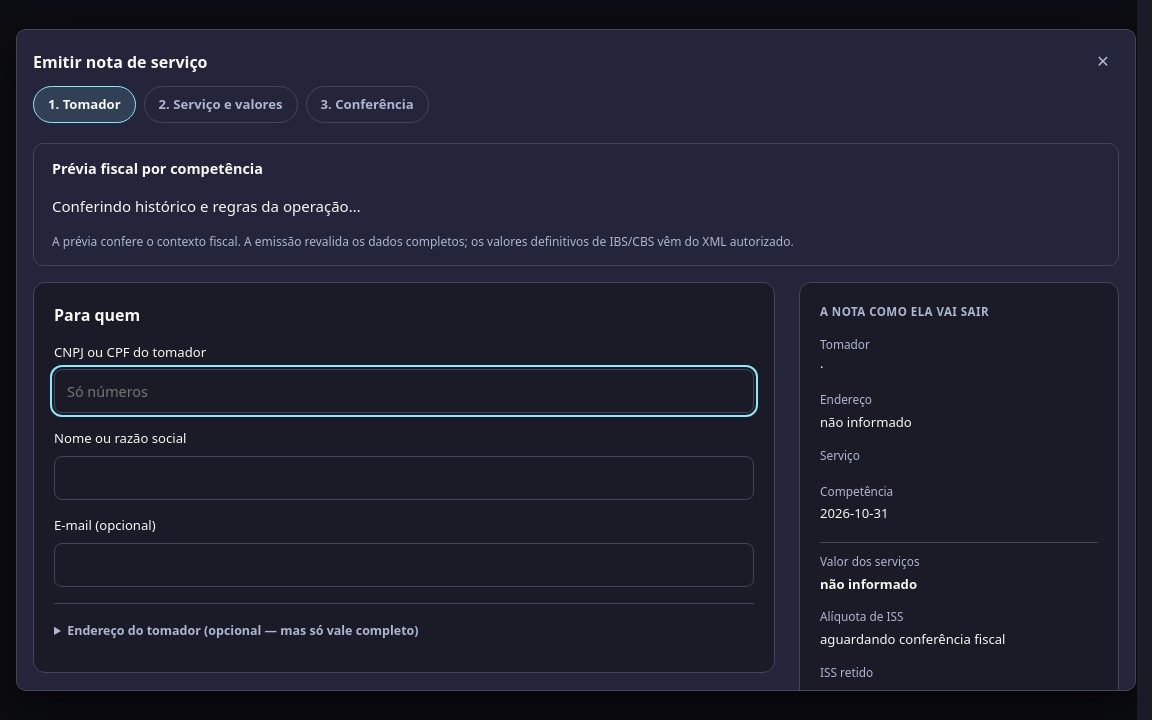
Test: ignora retorno de CEP que foi alterado e permite consultar o novo
Click the heading "Endereço do tomador (opcional — mas só vale completo)". click: (243,630)
box: [67, 622, 418, 639]
(page scrolled)
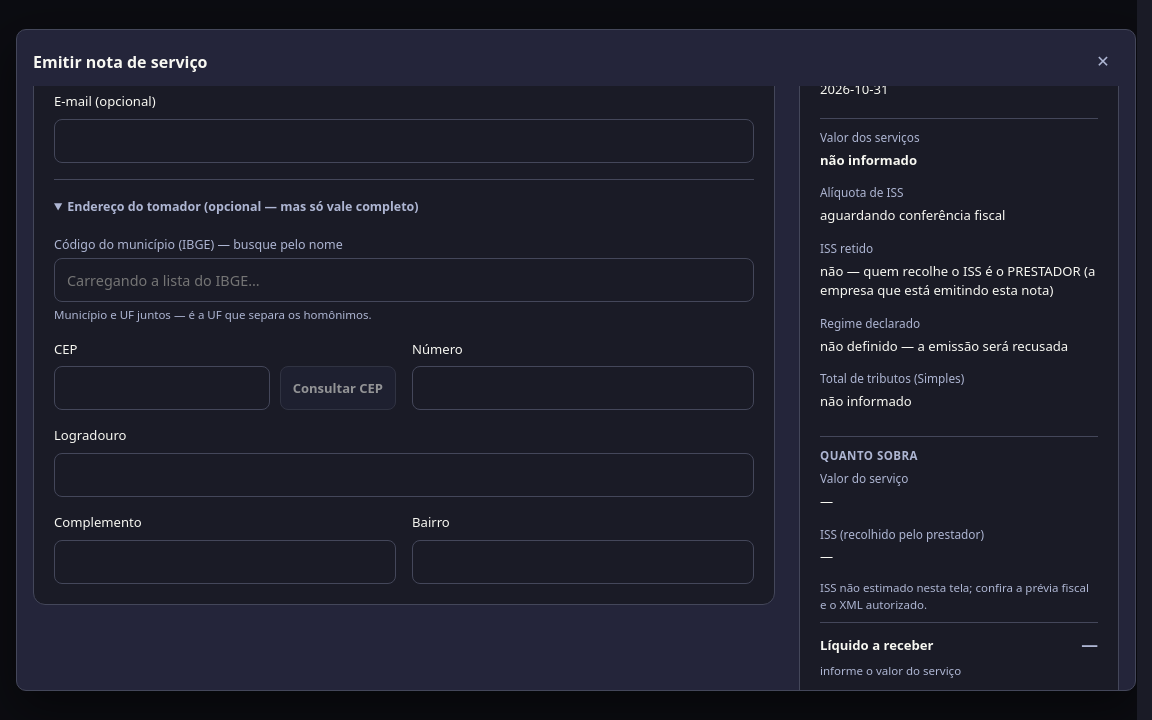
Type "22770010" into the field with id "nfse-cep". click: (162,388)
box: [54, 366, 270, 410]
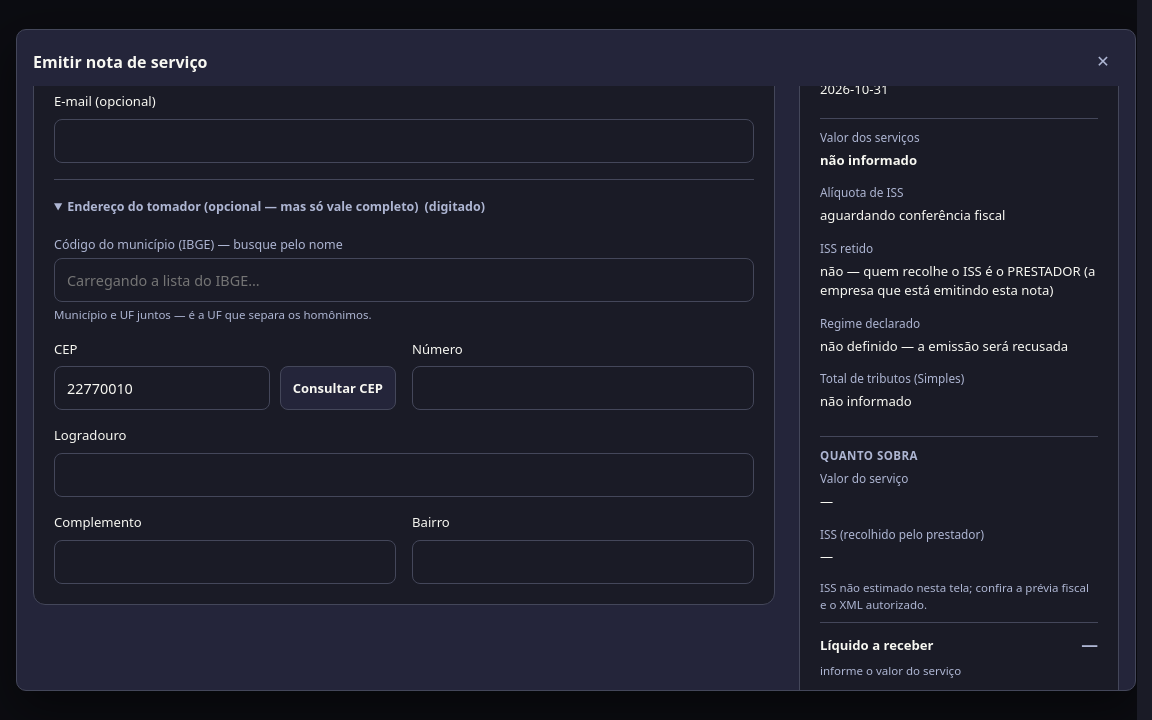
Click the button "Consultar CEP". click: (338,388)
box: [280, 366, 396, 410]
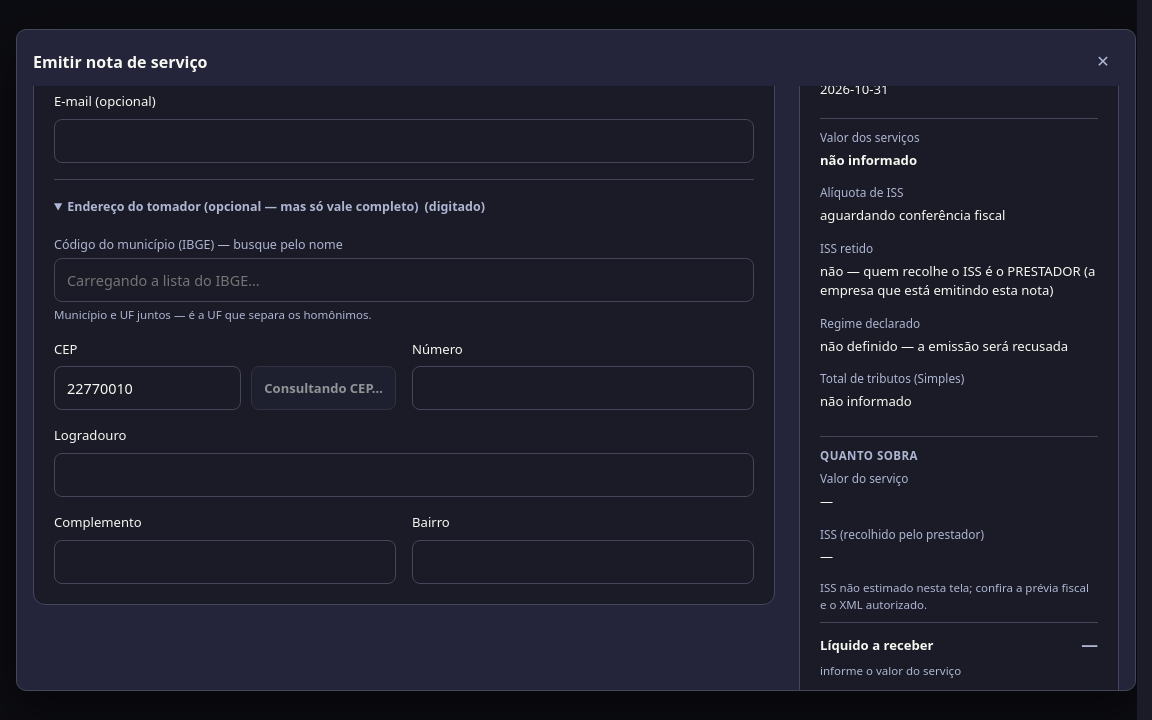
Replace the text in the field with id "nfse-cep" with "20040002". click: (148,388)
box: [54, 366, 241, 410]
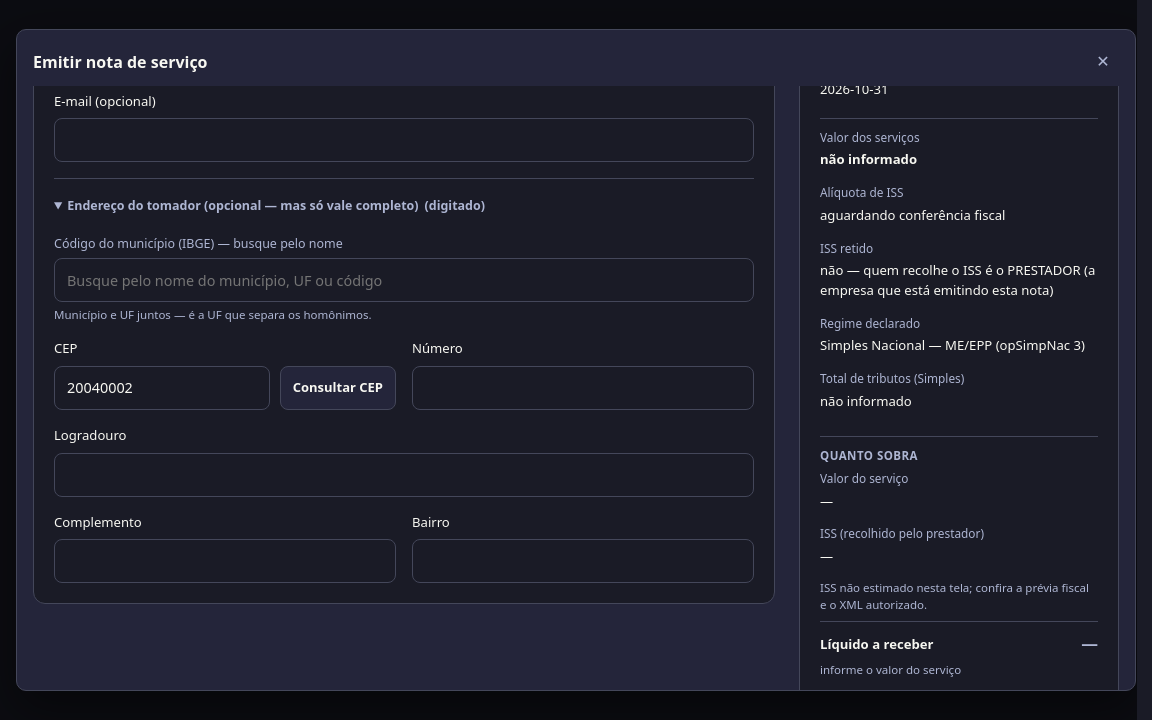
Check: the field with id "nfse-xlgr" is empty, box [54, 453, 754, 497]
Check: the button "Consultar CEP" is enabled, box [280, 366, 396, 410]
